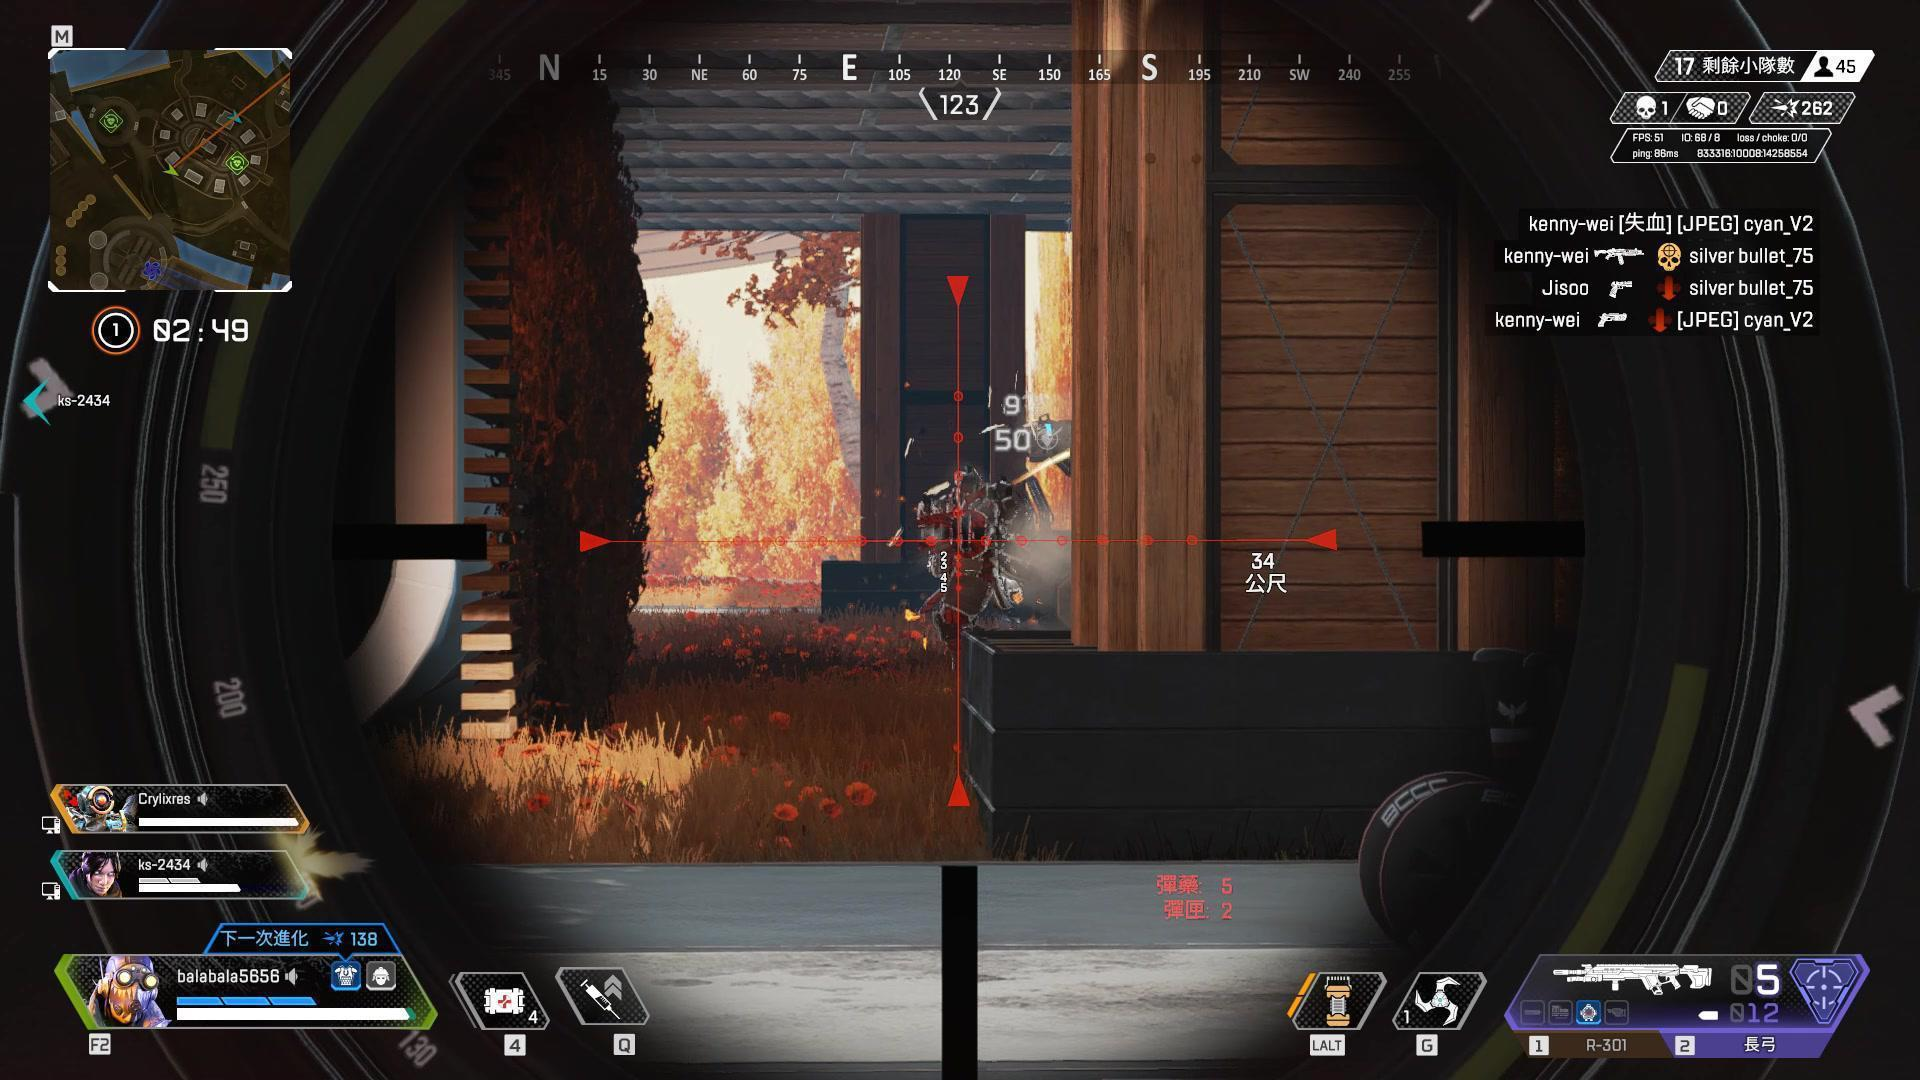avatar: (912, 466, 1004, 633)
